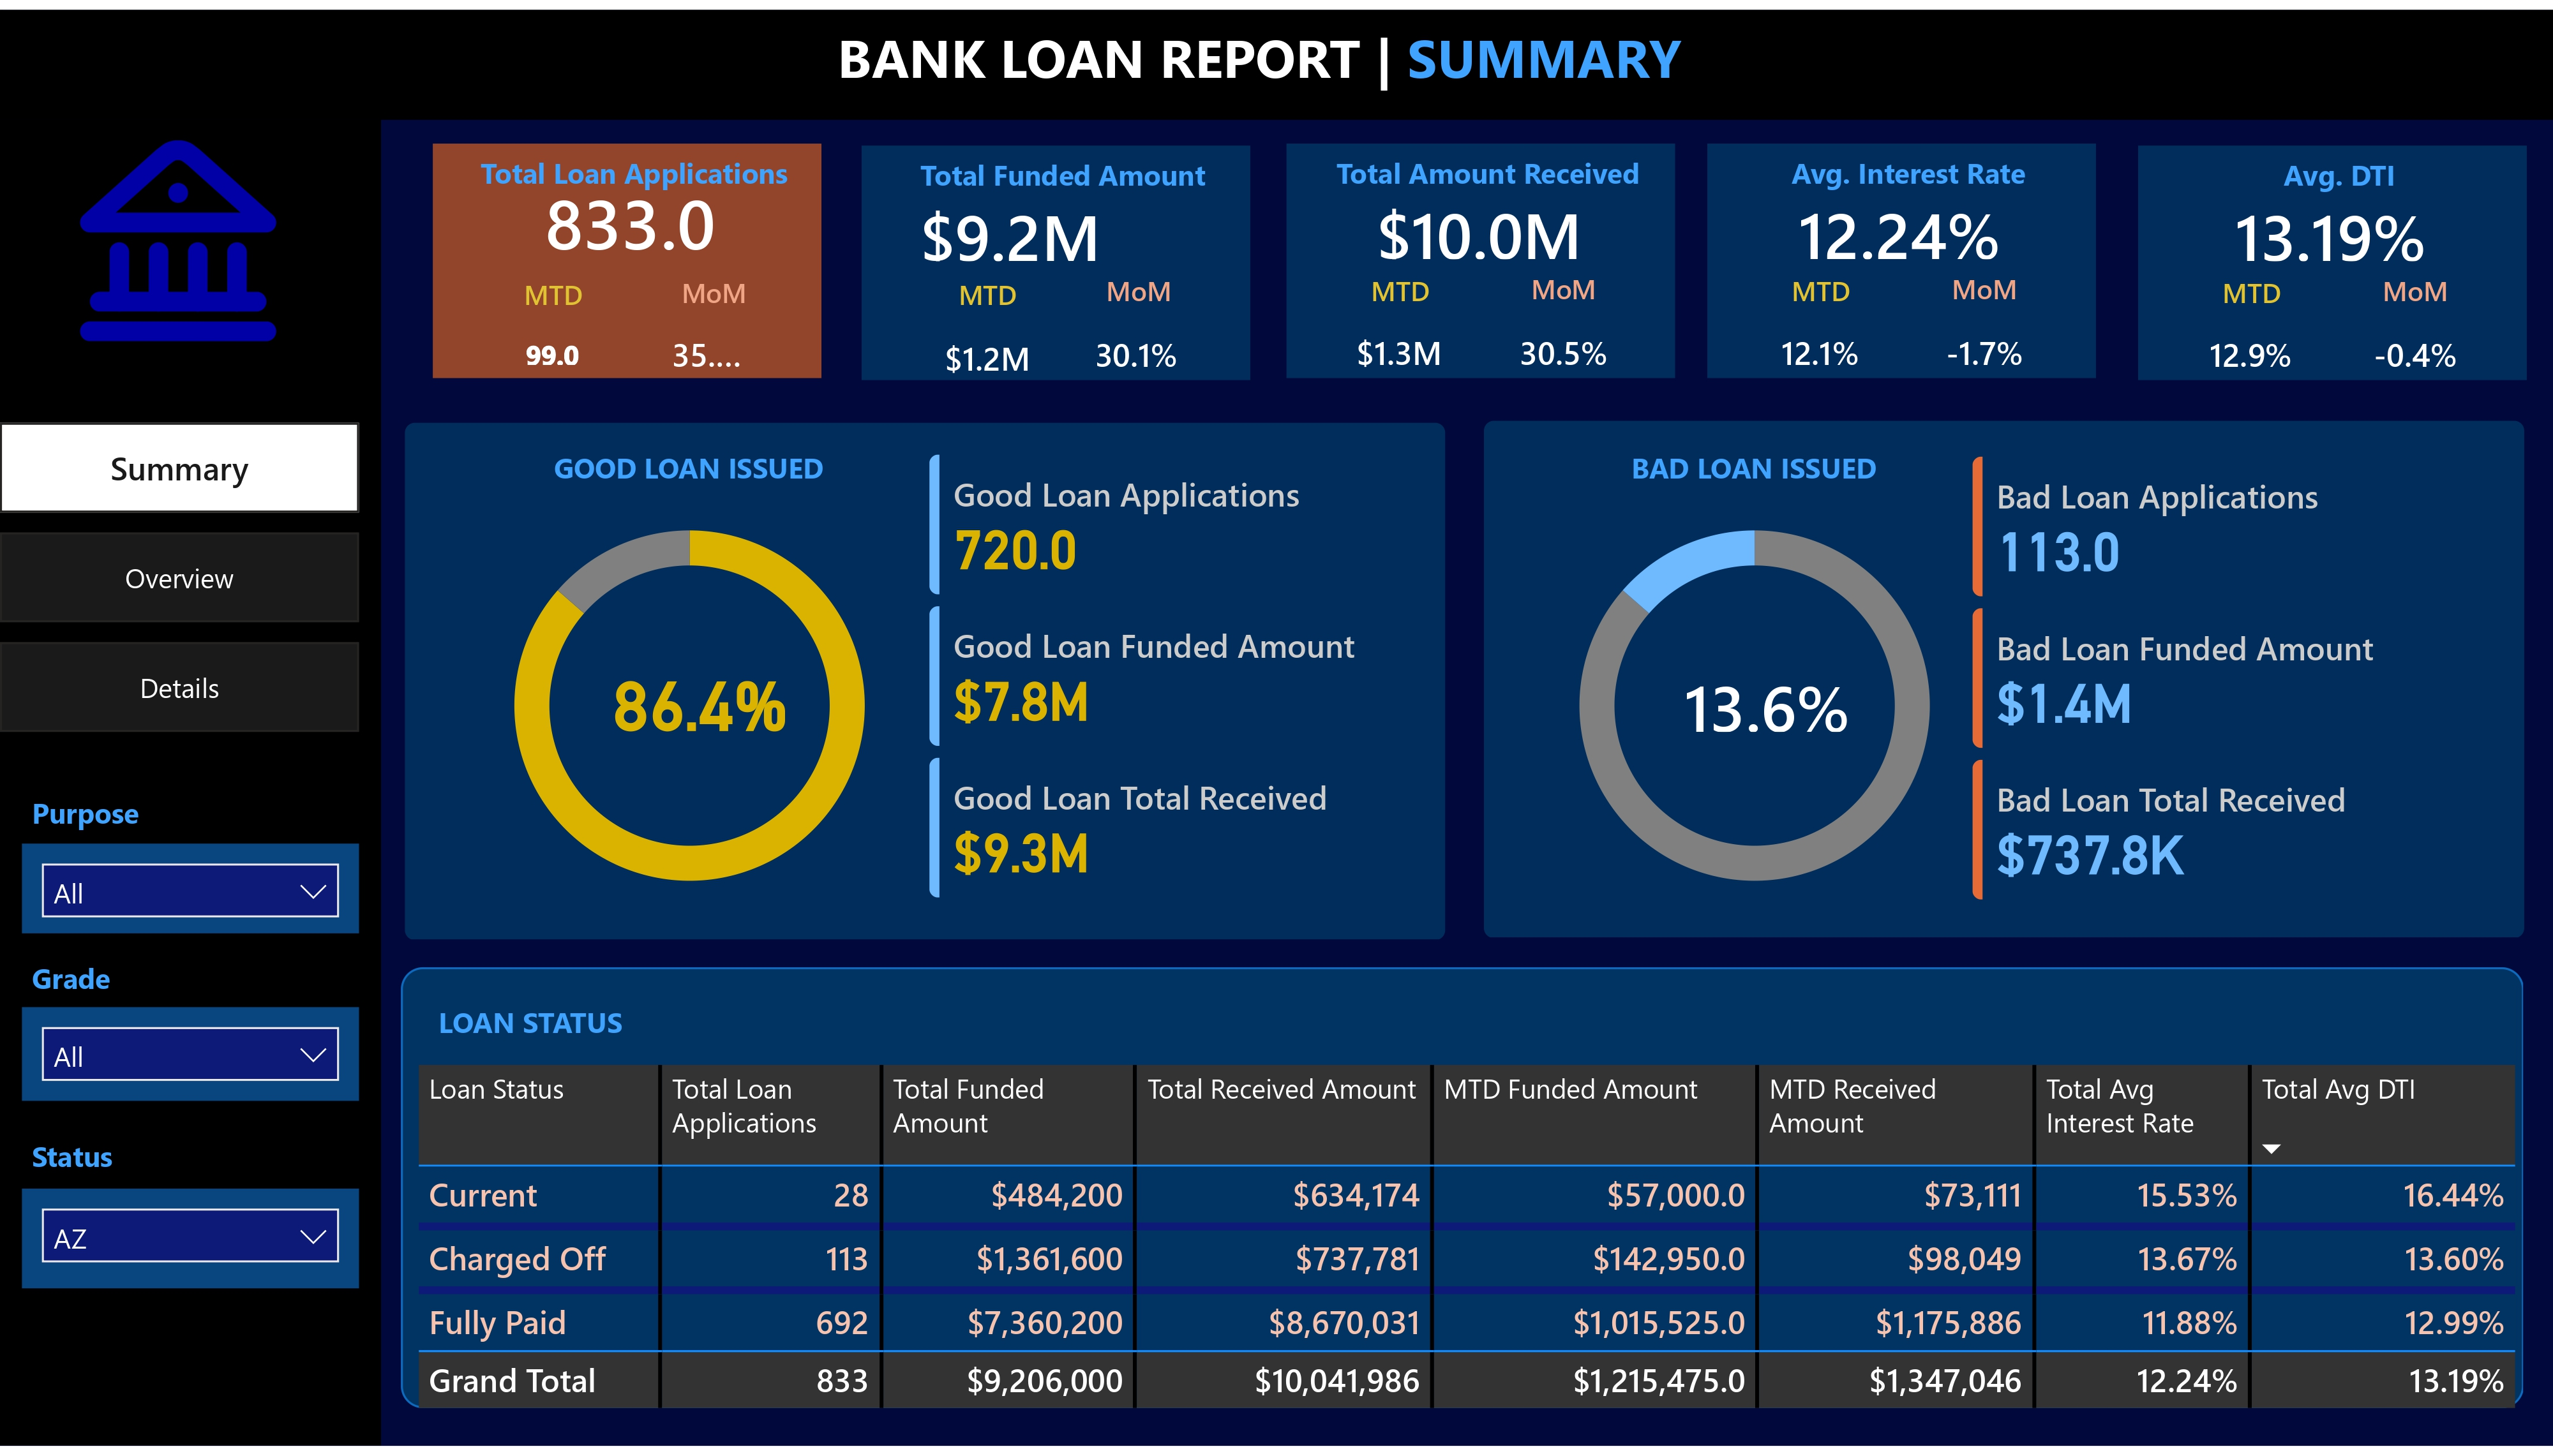

What the dashboard file says about the page in this screenshot:
{"tool":"powerbi","page":{"name":"Summary","canvas":[1280,720],"ordinal":0},"visuals":[{"type":"shape","box":[645,66.6,194.9,117.6],"z":0,"group":"g3"},{"type":"shape","box":[856.2,66.6,194.9,117.6],"z":0,"group":"g4"},{"type":"shape","box":[217.2,67.1,194.9,117.6],"z":0,"group":"g1"},{"type":"shape","box":[432.3,68,194.9,117.6],"z":0,"group":"g2"},{"type":"shape","box":[1071.7,68,194.9,117.6],"z":0,"group":"g5"},{"type":"shape","box":[744.1,205.5,521.6,259.4],"z":0},{"type":"cardVisual","fields":{"Data":["Measure Table (2).Total Loan Applications"]},"box":[216.3,72.2,200.7,66],"z":1000,"group":"g1"},{"type":"cardVisual","fields":{"Data":["Measure Table (2).Total Received Amount"]},"box":[645,78.6,193,63],"z":1000,"group":"g3"},{"type":"cardVisual","fields":{"Data":["Measure Table (2).Average Interest Rate"]},"box":[856.2,78.6,193,63],"z":1000,"group":"g4"},{"type":"cardVisual","fields":{"Data":["Measure Table (2).Total Funded Amount"]},"box":[432.3,80,193,63],"z":1000,"group":"g2"},{"type":"cardVisual","fields":{"Data":["Measure Table (2).Total Avg DTI"]},"box":[1071.7,80,193,63],"z":1000,"group":"g5"},{"type":"shape","box":[202.7,206.9,521.6,259.4],"z":1000},{"type":"shape","box":[0,0,1280,55],"z":2000},{"type":"textbox","box":[662,66.7,168,35],"z":2000,"group":"g3"},{"type":"textbox","box":[873.2,66.7,168,35],"z":2000,"group":"g4"},{"type":"textbox","box":[234.3,67.2,168,35],"z":2000,"group":"g1"},{"type":"textbox","box":[449.4,68.1,168,35],"z":2000,"group":"g2"},{"type":"textbox","box":[1088.7,68.1,168,35],"z":2000,"group":"g5"},{"type":"cardVisual","title":"MTD","fields":{"Data":["Measure Table (2).MTD Received Amount"]},"box":[642,131.3,120,64.5],"z":3000,"group":"g3"},{"type":"cardVisual","title":"MTD","fields":{"Data":["Measure Table (2).MTD Avg Interest Rate"]},"box":[853.2,131.3,120,64.5],"z":3000,"group":"g4"},{"type":"cardVisual","title":"MTD","fields":{"Data":["Measure Table (2).MTD Avg DTI"]},"box":[1068.7,132.7,120,64.5],"z":3000,"group":"g5"},{"type":"cardVisual","title":"MTD","fields":{"Data":["Measure Table (2).MTD Funded Amount"]},"box":[433.3,133.7,124.3,65.7],"z":3000,"group":"g2"},{"type":"cardVisual","title":"MTD","fields":{"Data":["Measure Table (2).MTD Loan Applications"]},"box":[221.5,134,112.9,61.4],"z":3000,"group":"g1"},{"type":"textbox","box":[260.8,215.4,168.7,35.4],"z":3000},{"type":"cardVisual","title":"MoM","fields":{"Data":["Measure Table (2).MoM Received Amount"]},"box":[733.4,130.6,102,65.3],"z":4000,"group":"g3"},{"type":"cardVisual","title":"MoM","fields":{"Data":["Measure Table (2).MoM Avg Interest Rate"]},"box":[944.6,130.6,102,65.3],"z":4000,"group":"g4"},{"type":"cardVisual","title":"MoM","fields":{"Data":["Measure Table (2).MoM Funded Amount"]},"box":[520.7,132,102,65.3],"z":4000,"group":"g2"},{"type":"cardVisual","title":"MoM","fields":{"Data":["Measure Table (2).MoM Avg DTI"]},"box":[1160.1,132,102,65.3],"z":4000,"group":"g5"},{"type":"cardVisual","title":"MoM","fields":{"Data":["Measure Table (2).MoM Loan Application"]},"box":[308.7,132.6,100,64.3],"z":4000,"group":"g1"},{"type":"textbox","box":[795.1,215.4,168.7,35.4],"z":4000},{"type":"shape","box":[0,55.3,191.3,664.7],"z":5000},{"type":"textbox","box":[414.9,0,448.5,57.1],"z":6000},{"type":"group","id":"g1","title":"Group 1","box":[216.3,67.1,200.7,129.8],"z":7000},{"type":"group","id":"g2","title":"Group 1","box":[432.3,68,194.9,131.4],"z":8000},{"type":"group","id":"g3","title":"Group 1","box":[642,66.6,198.4,129],"z":9000},{"type":"group","id":"g4","title":"Group 1","box":[853.2,66.6,197,129],"z":10000},{"type":"shape","box":[201.3,480.5,1064.4,221.1],"z":11000},{"type":"group","id":"g5","title":"Group 1","box":[1068.7,68,197,129],"z":12000},{"type":"tableEx","fields":{"Values":["financial_loan.loan_status","Measure Table (2).Total Loan Applications","Measure Table (2).Total Funded Amount","Measure Table (2).Total Received Amount","Measure Table (2).MTD Funded Amount","Measure Table (2).MTD Received Amount","Measure Table (2).Total Avg Interest Rate","Measure Table (2).Total Avg DTI"]},"box":[204.1,524.4,1063,182.8],"z":13000},{"type":"slicer","fields":{"Values":["financial_loan.Good Loan Vs Bad Loan"]},"box":[11.3,418.1,168.7,45.4],"z":14000},{"type":"donutChart","fields":{"Category":["financial_loan.Good Loan Vs Bad Loan"],"Y":["Measure Table (2).Total Loan Applications"]},"box":[221.1,233.9,249.4,229.6],"z":15000},{"type":"slicer","fields":{"Values":["financial_loan.grade"]},"box":[11.3,500.3,168.7,46.8],"z":16000},{"type":"slicer","fields":{"Values":["financial_loan.address_state"]},"box":[11.3,591,168.7,49.6],"z":17000},{"type":"cardVisual","fields":{"Data":["Measures_summary.Good Loan %"]},"box":[269.3,316.1,164.4,63.8],"z":18000},{"type":"cardVisual","fields":{"Data":["Measures_summary.Good Loan Applications","Measures_summary.Good Loan Funded Amt","Measures_summary.Good Loan Total Received"]},"box":[449.3,205.5,265,258],"z":19000},{"type":"donutChart","fields":{"Category":["financial_loan.Good Loan Vs Bad Loan"],"Y":["Measure Table (2).Total Loan Applications"]},"box":[755.4,233.9,249.4,229.6],"z":20000},{"type":"cardVisual","fields":{"Data":["Measures_summary.Bad Loan %"]},"box":[803.6,316.1,164.4,63.8],"z":21000},{"type":"cardVisual","fields":{"Data":["Measures_summary.Bad Loan Applications","Measures_summary.Bad Loan Funded Amount","Measures_summary.Bad Loan Total Received"]},"box":[972.3,206.9,265,258],"z":22000},{"type":"textbox","box":[215.4,493.2,126.1,31.2],"z":23000},{"type":"textbox","box":[11.3,559.8,126.1,31.2],"z":24000},{"type":"textbox","box":[11.3,388.3,126.1,31.2],"z":25000},{"type":"textbox","box":[11.3,470.6,126.1,35.4],"z":26000},{"type":"image","box":[27.1,57.1,124.3,118.6],"z":27000},{"type":"pageNavigator","box":[0,206.9,180,155.9],"z":28000}]}

Visuals, with their boxes in screenshot pixels (x1, y1, x2, y2), scaled from the page's 1280x720 canvas onto the 2553x1456 screenshot:
shape: x1=1287, y1=135, x2=1675, y2=373
shape: x1=1708, y1=135, x2=2097, y2=373
shape: x1=433, y1=136, x2=822, y2=373
shape: x1=862, y1=138, x2=1251, y2=375
shape: x1=2137, y1=138, x2=2526, y2=375
shape: x1=1484, y1=415, x2=2524, y2=940
cardVisual - Measure Table (2).Total Loan Applications: x1=431, y1=146, x2=832, y2=279
cardVisual - Measure Table (2).Total Received Amount: x1=1287, y1=159, x2=1672, y2=286
cardVisual - Measure Table (2).Average Interest Rate: x1=1708, y1=159, x2=2093, y2=286
cardVisual - Measure Table (2).Total Funded Amount: x1=862, y1=162, x2=1247, y2=289
cardVisual - Measure Table (2).Total Avg DTI: x1=2137, y1=162, x2=2522, y2=289
shape: x1=404, y1=419, x2=1444, y2=943
shape: x1=0, y1=0, x2=2552, y2=111
textbox: x1=1321, y1=135, x2=1656, y2=205
textbox: x1=1742, y1=135, x2=2077, y2=205
textbox: x1=467, y1=136, x2=802, y2=207
textbox: x1=896, y1=138, x2=1231, y2=209
textbox: x1=2171, y1=138, x2=2506, y2=209
"MTD" cardVisual: x1=1280, y1=265, x2=1520, y2=396
"MTD" cardVisual: x1=1702, y1=265, x2=1941, y2=396
"MTD" cardVisual: x1=2132, y1=269, x2=2371, y2=399
"MTD" cardVisual: x1=864, y1=271, x2=1112, y2=403
"MTD" cardVisual: x1=442, y1=271, x2=667, y2=395
textbox: x1=520, y1=436, x2=857, y2=507
"MoM" cardVisual: x1=1463, y1=264, x2=1666, y2=396
"MoM" cardVisual: x1=1884, y1=264, x2=2088, y2=396
"MoM" cardVisual: x1=1038, y1=267, x2=1242, y2=399
"MoM" cardVisual: x1=2314, y1=267, x2=2517, y2=399
"MoM" cardVisual: x1=616, y1=268, x2=815, y2=398
textbox: x1=1586, y1=436, x2=1922, y2=507
shape: x1=0, y1=112, x2=382, y2=1455
textbox: x1=828, y1=0, x2=1722, y2=115
"Group 1" group: x1=431, y1=136, x2=832, y2=398
"Group 1" group: x1=862, y1=138, x2=1251, y2=403
"Group 1" group: x1=1280, y1=135, x2=1676, y2=396
"Group 1" group: x1=1702, y1=135, x2=2095, y2=396
shape: x1=401, y1=972, x2=2524, y2=1419
"Group 1" group: x1=2132, y1=138, x2=2524, y2=398
tableEx - financial_loan.loan_status x Measure Table (2).Total Loan Applications: x1=407, y1=1060, x2=2527, y2=1430
slicer - financial_loan.Good Loan Vs Bad Loan: x1=22, y1=845, x2=359, y2=937
donutChart - financial_loan.Good Loan Vs Bad Loan x Measure Table (2).Total Loan Applications: x1=441, y1=473, x2=938, y2=937
slicer - financial_loan.grade: x1=22, y1=1012, x2=359, y2=1106
slicer - financial_loan.address_state: x1=22, y1=1195, x2=359, y2=1295
cardVisual - Measures_summary.Good Loan %: x1=537, y1=639, x2=865, y2=768
cardVisual - Measures_summary.Good Loan Applications x Measures_summary.Good Loan Funded Amt: x1=896, y1=415, x2=1425, y2=937
donutChart - financial_loan.Good Loan Vs Bad Loan x Measure Table (2).Total Loan Applications: x1=1507, y1=473, x2=2004, y2=937
cardVisual - Measures_summary.Bad Loan %: x1=1603, y1=639, x2=1931, y2=768
cardVisual - Measures_summary.Bad Loan Applications x Measures_summary.Bad Loan Funded Amount: x1=1939, y1=419, x2=2468, y2=940
textbox: x1=430, y1=997, x2=681, y2=1060
textbox: x1=22, y1=1132, x2=274, y2=1195
textbox: x1=22, y1=785, x2=274, y2=849
textbox: x1=22, y1=952, x2=274, y2=1023
image: x1=54, y1=115, x2=302, y2=355
pageNavigator: x1=0, y1=419, x2=359, y2=734
